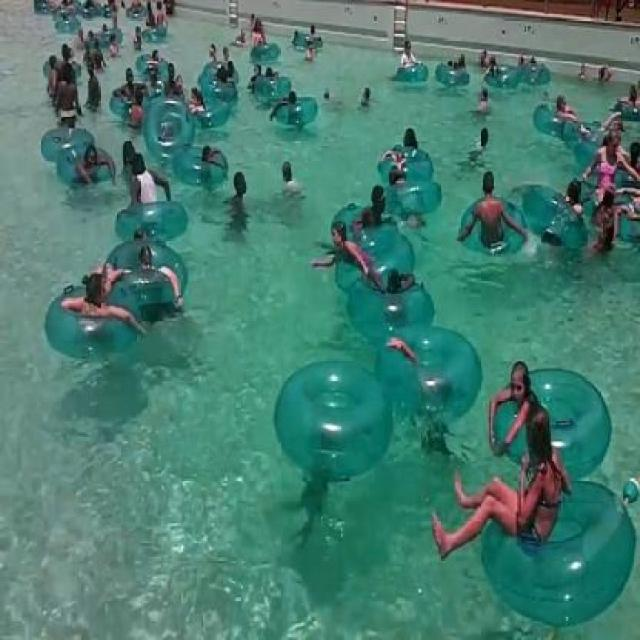drowning: (224, 166, 253, 226), (464, 124, 491, 174), (281, 158, 304, 200), (472, 80, 493, 118), (357, 81, 377, 119), (595, 59, 614, 87), (232, 27, 250, 47), (108, 36, 120, 62), (132, 24, 140, 50), (306, 44, 316, 64), (210, 40, 218, 63), (580, 63, 588, 83), (326, 87, 331, 101)
